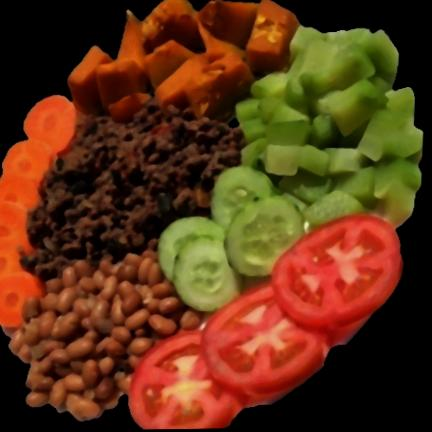beans: (9, 247, 204, 420)
carrot: (0, 93, 87, 332), (0, 97, 78, 338)
cucumber: (157, 166, 366, 320)
green_vegetables: (234, 23, 426, 221)
meat: (20, 101, 242, 284)
tomato: (124, 212, 402, 430)
